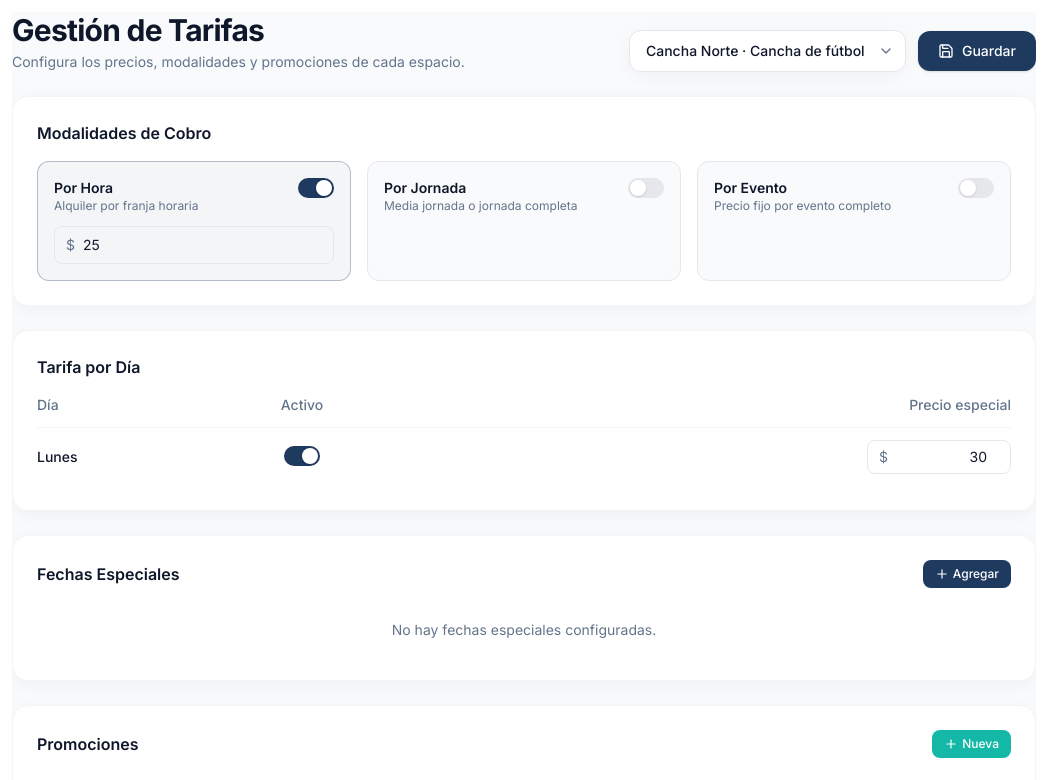
it: guardado del tarifario › envía el borrador y confirma con '¡Guardado!'
Expected: the heading "Modalidades de Cobro" is shown, [37,123,211,143]
Click the button "Guardar": (977,51) [918,31,1036,71]
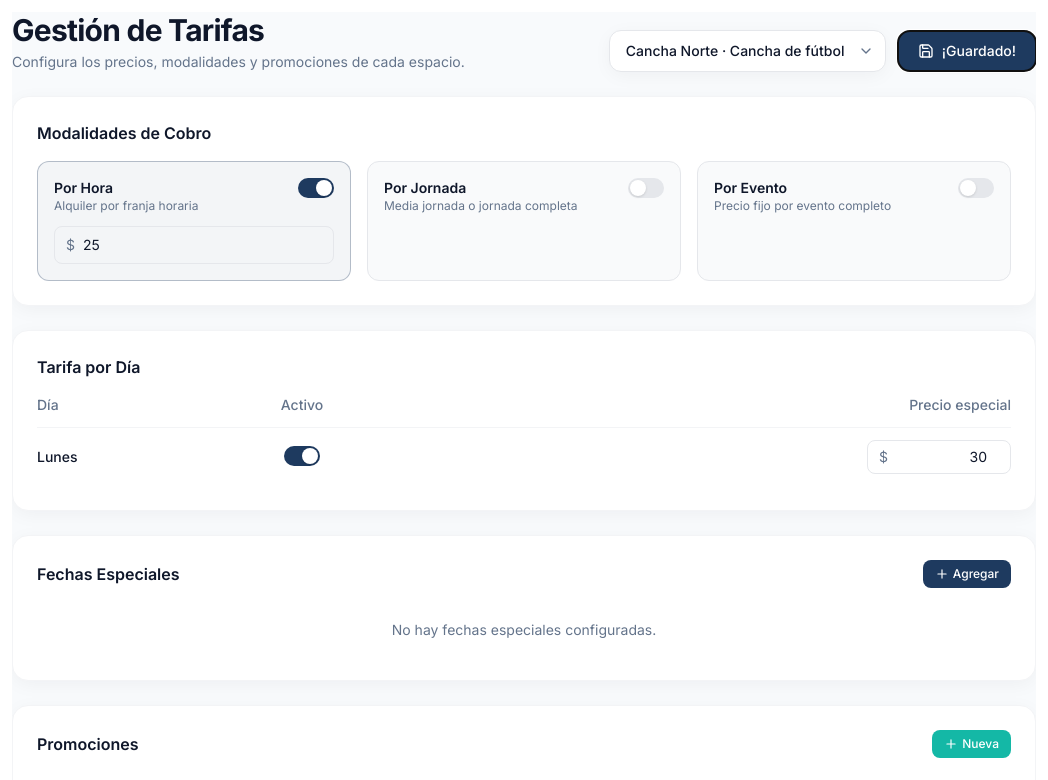
Now the button "¡Guardado!" is shown, box [898,31,1036,71]
